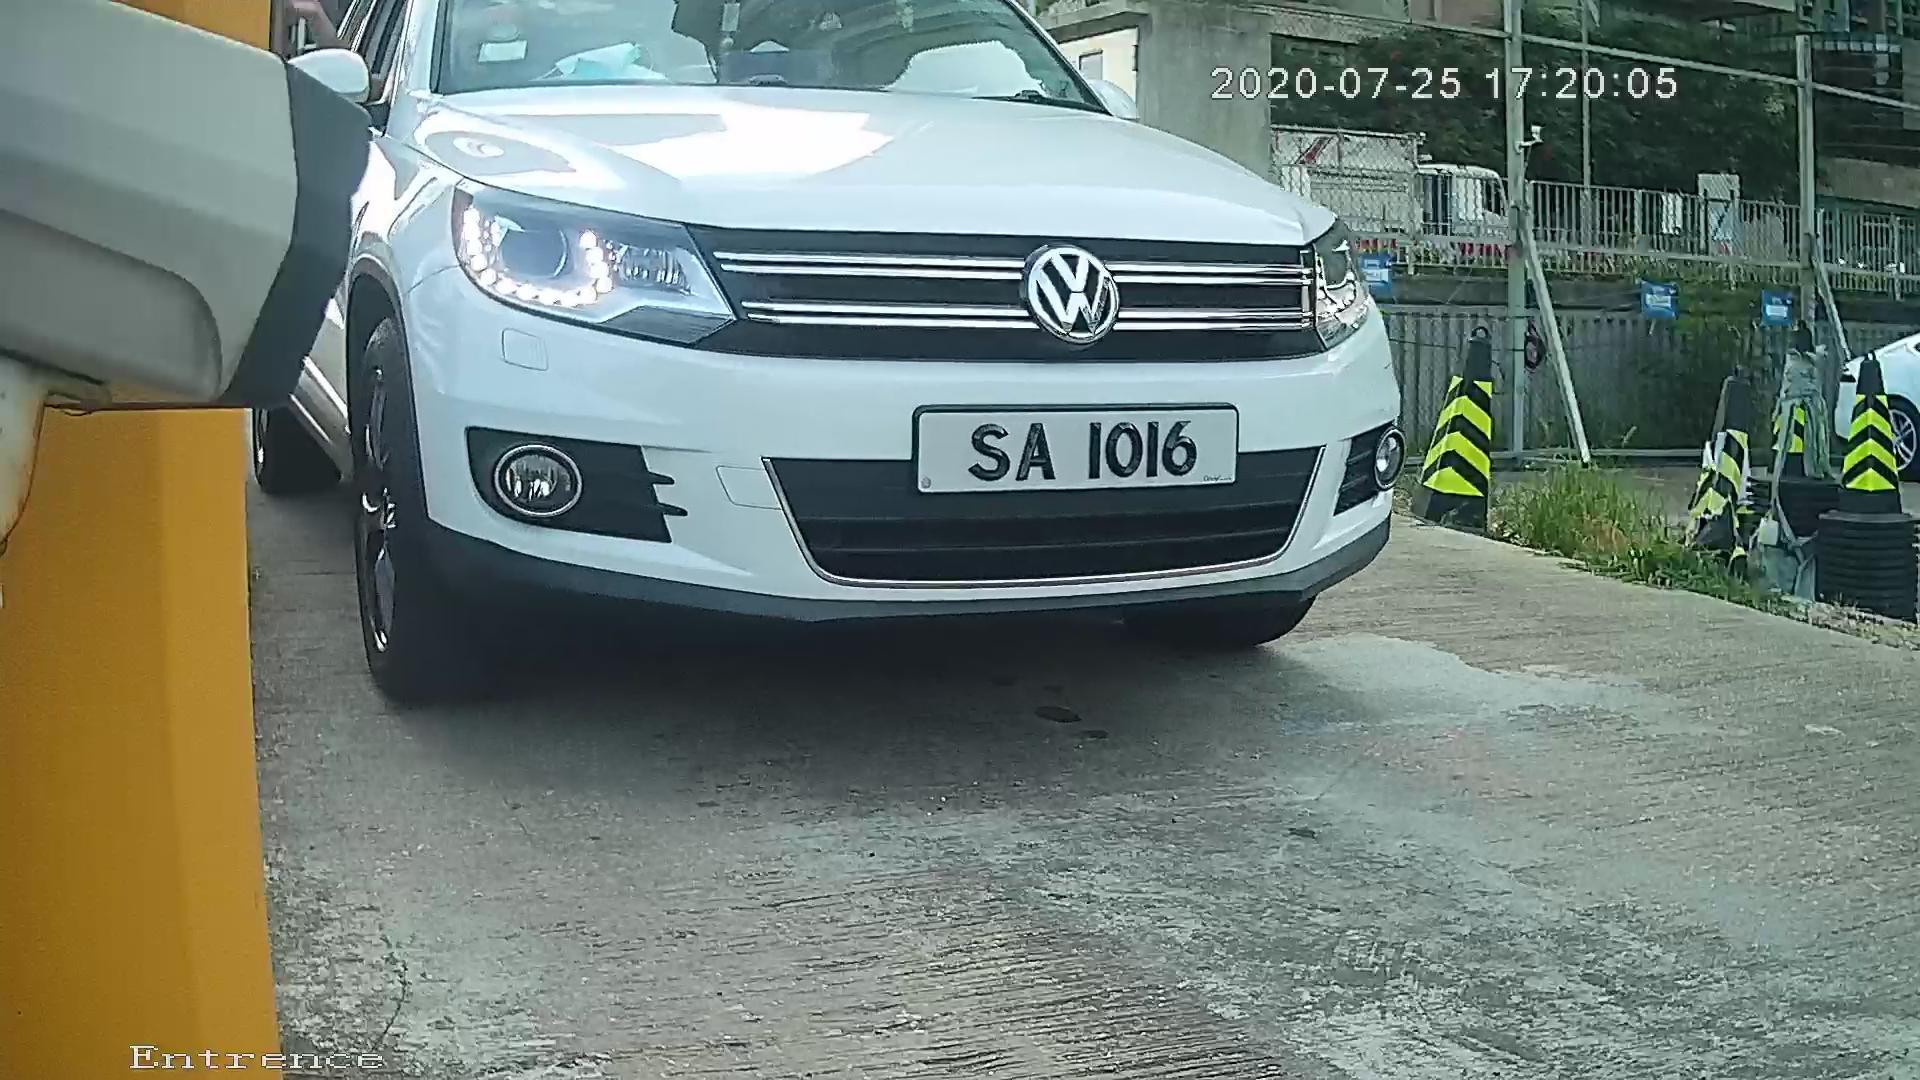privatecar: (265, 3, 1505, 740)
